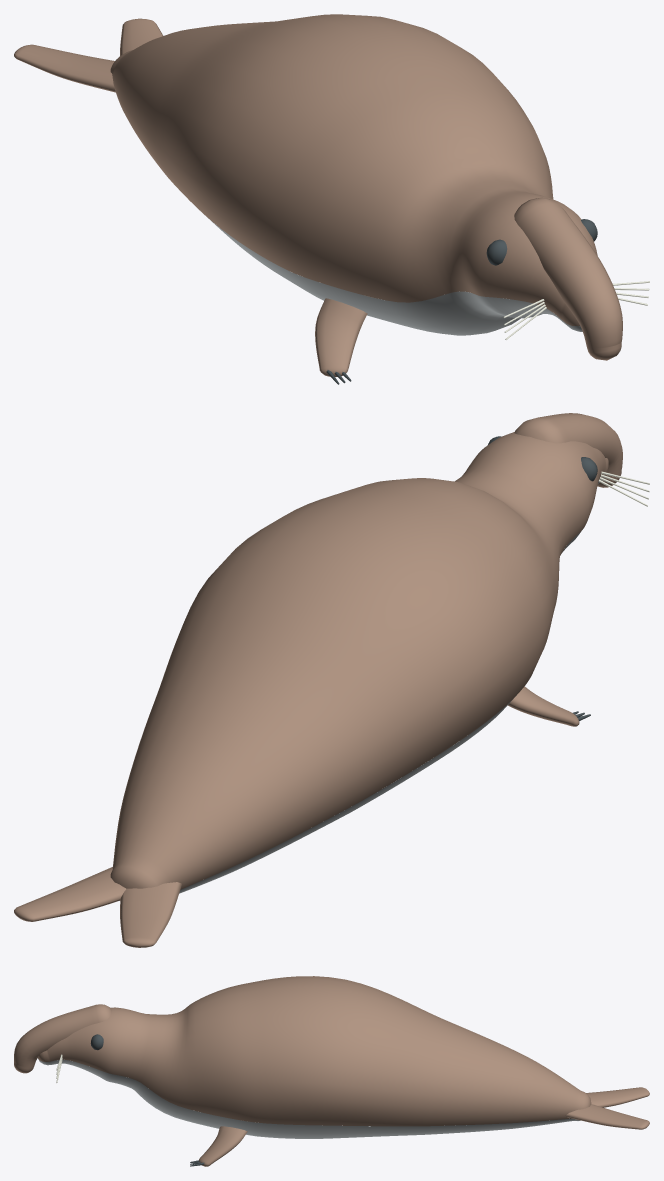
File: ocean-giants-kit-elephant-seal-2563d33a__39354.glb
3 renders of one model, top to bottom at view 1: azimuth 30°, elevation 25°; view 2: azimuth 150°, elevation 25°; view 3: azimuth 270°, elevation 25°, orthographic. The views are drawn at different scales.
Parts seen in each view (by area): view 1: elephant-seal; view 2: elephant-seal; view 3: elephant-seal.
Part boxes in pixels (box(x1,y1,x2,y2)): elephant-seal: box(14, 14, 649, 384); elephant-seal: box(14, 413, 649, 947); elephant-seal: box(14, 976, 649, 1166).
Size of the model in its own units: 1.4 by 1.12 by 4.5.
